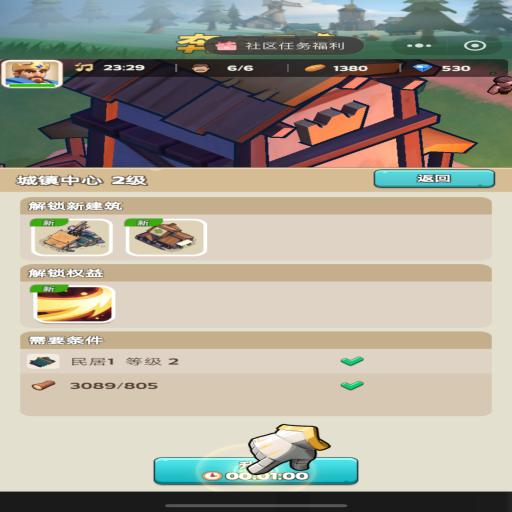newcomer_hand: (246, 424, 330, 474)
